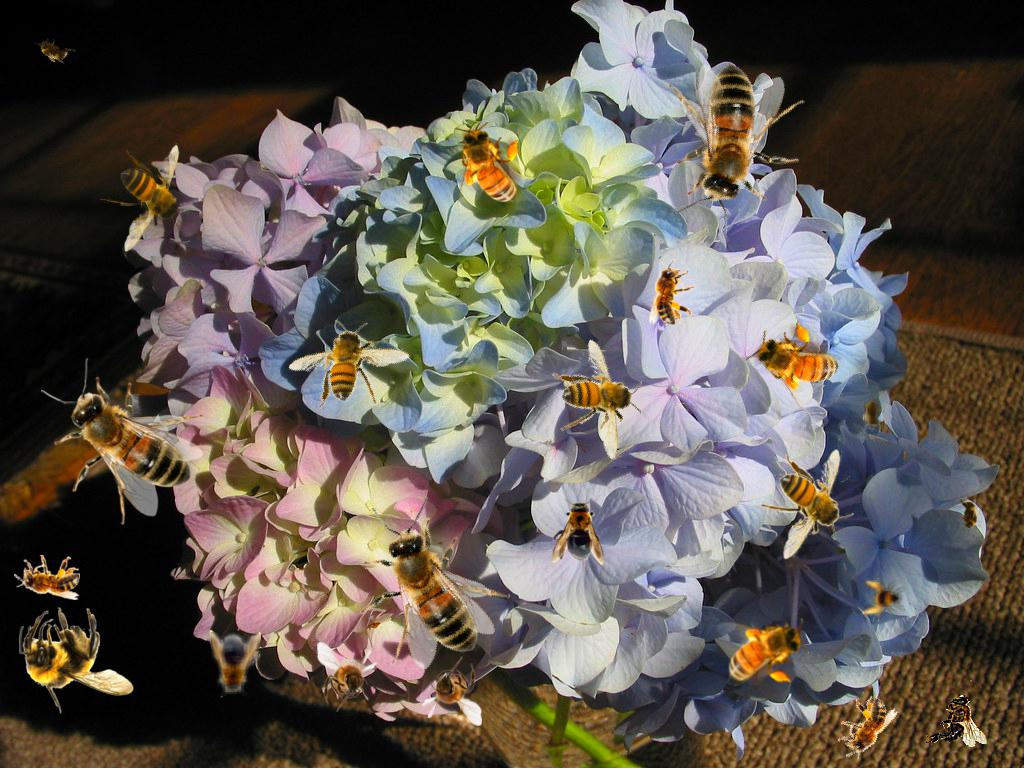Bee: (619, 30, 844, 254), (317, 478, 534, 698), (41, 358, 203, 525), (527, 329, 670, 475), (279, 296, 424, 434), (740, 306, 856, 421), (19, 607, 134, 714), (760, 449, 854, 560), (100, 143, 194, 254), (716, 618, 809, 686), (454, 122, 522, 215), (828, 688, 900, 768), (317, 642, 378, 712), (421, 656, 482, 726), (552, 497, 604, 565), (209, 630, 261, 698), (925, 694, 987, 747), (14, 555, 80, 600), (649, 259, 694, 325), (862, 578, 906, 622), (30, 30, 76, 70), (958, 495, 980, 535), (862, 393, 884, 433)
